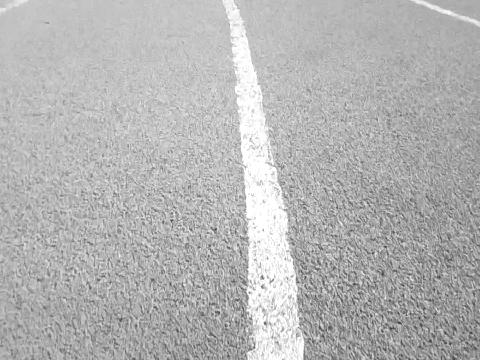Lines: (222, 0, 304, 360)
